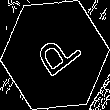P_SW: (27, 25, 83, 85)
